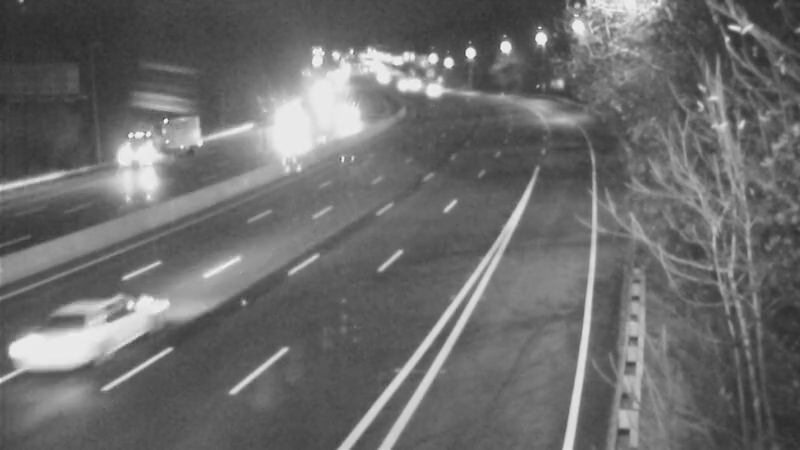vehicle: (4, 299, 114, 409), (98, 119, 178, 199), (410, 62, 460, 112)
